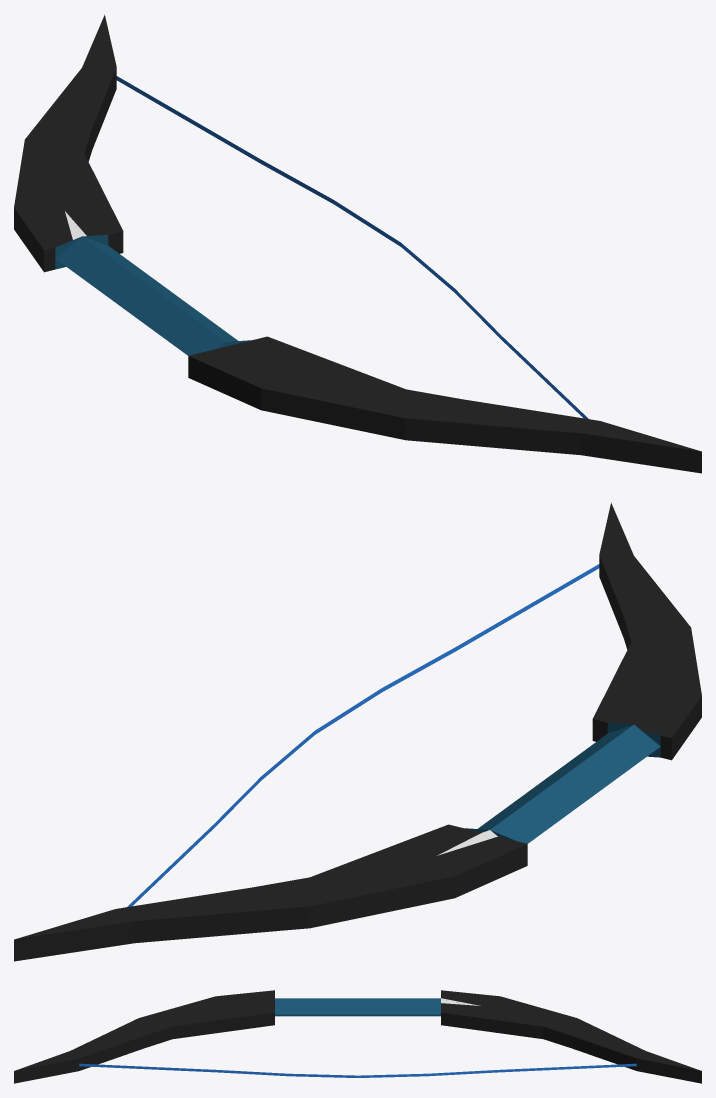
Rendered from ArcoJuego.fbx.
3 renders of one model, top to bottom at view 1: azimuth 30°, elevation 25°; view 2: azimuth 150°, elevation 25°; view 3: azimuth 270°, elevation 25°, orthographic. The views are drawn at different scales.
Visible parts, largest first — view 1: Plane; view 2: Plane; view 3: Plane.
Boxes of the visible parts, x1,y1,x2,y2 form: Plane: [14, 14, 701, 473]; Plane: [14, 502, 701, 961]; Plane: [14, 990, 701, 1083].
Size of the model in its own units: 82.83 by 8.64 by 298.
Materials: 1 (1 with a texture image).
